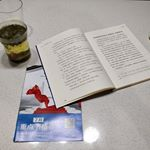cups: (1, 1, 35, 64)
